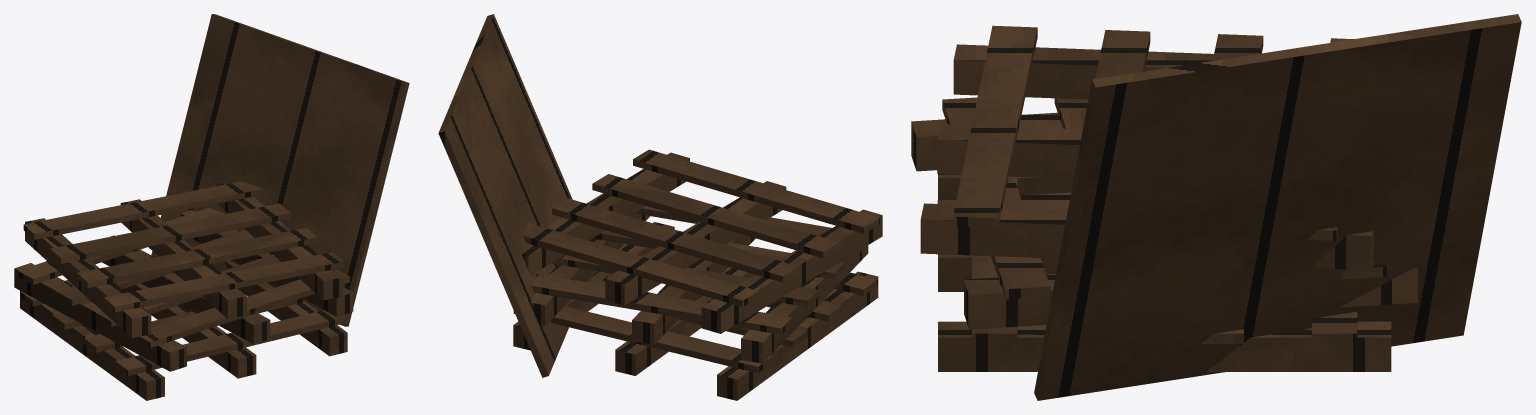
File: town_pallets.glb
3 renders of one model, left to right at view 1: azimuth 30°, elevation 25°; view 2: azimuth 150°, elevation 25°; view 3: azimuth 270°, elevation 25°, orthographic. The views are drawn at different scales.
Parts seen in each view (by area): view 1: stack-col, detail; view 2: stack-col, detail; view 3: detail, stack-col.
Boxes of the visible parts, x1,y1,x2,y2 form: stack-col: [14, 181, 353, 400]; detail: [151, 14, 409, 326]; stack-col: [513, 149, 882, 400]; detail: [438, 14, 572, 377]; detail: [1034, 14, 1521, 400]; stack-col: [911, 25, 1417, 371].
Size of what is drawn, in the model's own units: 1.79 by 1.12 by 1.62.
1 material, 1 textured.
